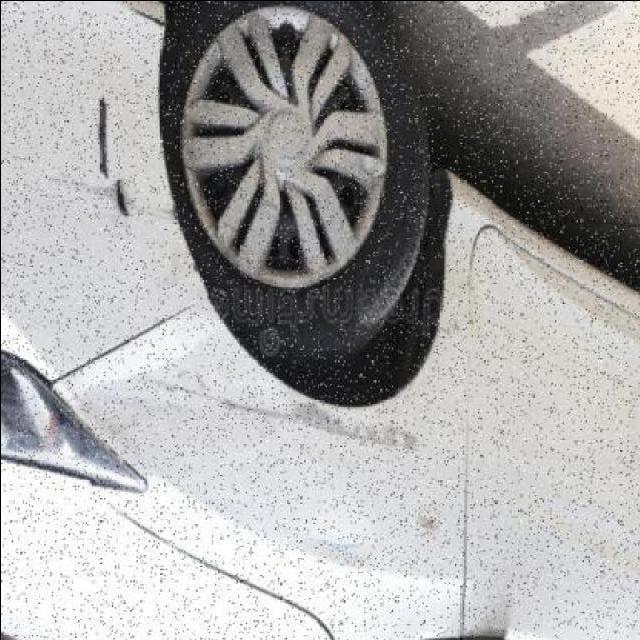fender-dent: (89, 279, 465, 548)
front-bumper-dent: (0, 0, 206, 317)
